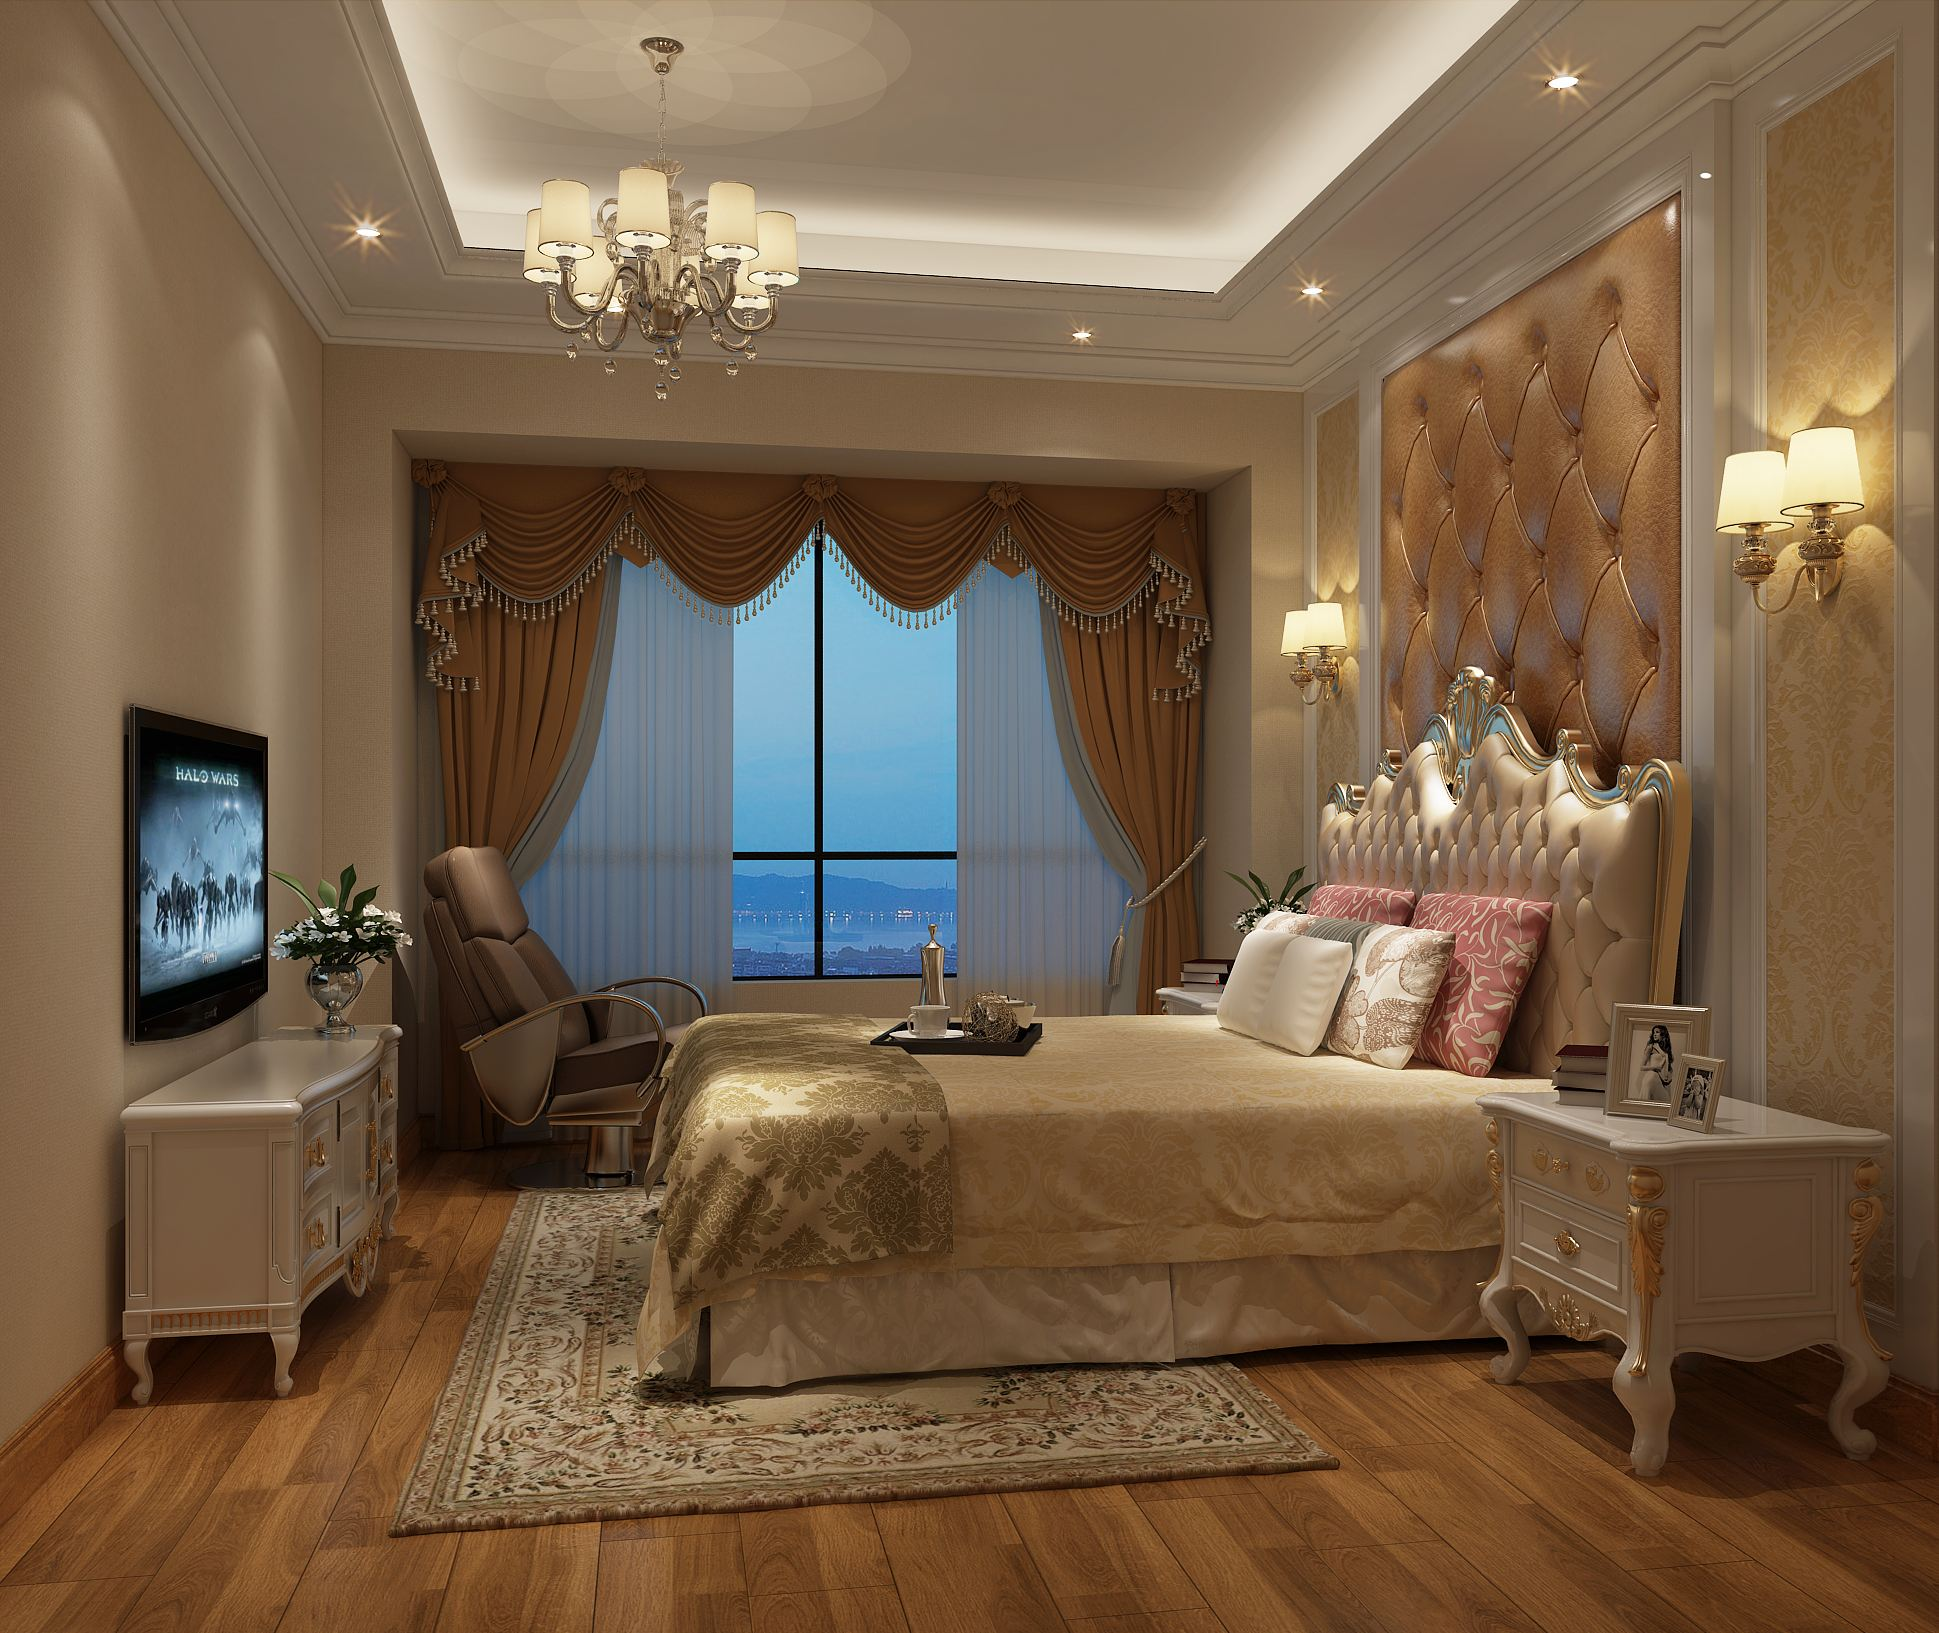床: (637, 1013, 1528, 1393)
枕头: (1184, 881, 1547, 1064)
灯: (501, 26, 807, 405), (1702, 407, 1871, 620), (1276, 588, 1354, 820), (327, 207, 386, 259), (1536, 63, 1591, 104), (1050, 318, 1105, 355), (1283, 274, 1333, 311)
